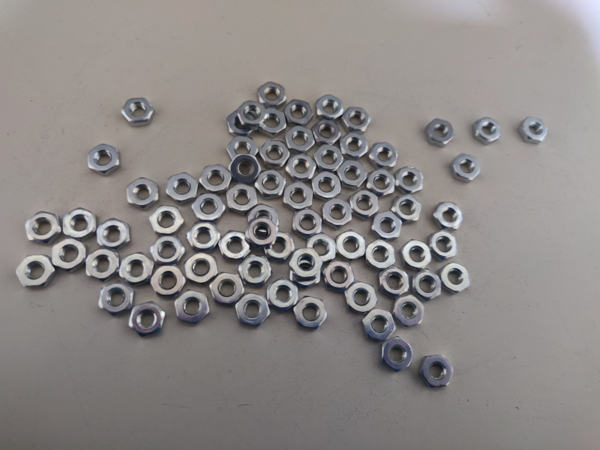nut: (15, 254, 52, 291), (130, 302, 165, 339), (26, 210, 61, 245), (175, 292, 210, 327), (209, 273, 245, 307), (379, 336, 411, 374), (419, 355, 453, 390), (237, 254, 272, 288), (52, 239, 86, 273), (294, 297, 328, 331), (235, 295, 269, 329), (117, 253, 152, 286), (125, 178, 161, 210), (393, 295, 425, 330), (62, 208, 98, 239), (363, 309, 395, 343), (410, 272, 444, 304), (98, 284, 133, 315), (185, 222, 220, 253), (268, 278, 299, 313), (86, 145, 122, 175), (287, 249, 324, 278), (86, 247, 118, 280), (185, 253, 218, 285), (151, 266, 183, 299), (440, 263, 471, 297), (150, 205, 184, 236), (96, 219, 133, 247), (345, 284, 378, 315), (150, 236, 185, 265), (423, 118, 455, 149), (167, 172, 198, 204), (226, 185, 258, 216), (368, 239, 399, 271), (392, 195, 424, 226), (192, 193, 225, 223), (394, 167, 427, 197), (122, 99, 156, 128), (244, 204, 279, 232), (518, 115, 549, 146), (199, 165, 231, 195), (307, 235, 337, 267), (334, 233, 367, 262), (289, 260, 323, 288), (471, 116, 502, 146), (283, 181, 313, 212), (400, 240, 431, 270), (218, 231, 250, 260), (324, 199, 353, 231), (263, 231, 296, 259), (379, 267, 409, 297), (450, 153, 481, 182), (372, 212, 403, 241), (348, 190, 379, 219), (338, 160, 368, 189), (433, 202, 464, 230), (294, 208, 322, 239), (342, 106, 373, 134), (315, 144, 344, 173), (366, 143, 398, 169), (255, 170, 284, 198), (324, 263, 353, 291), (341, 130, 368, 160), (429, 232, 460, 258), (228, 136, 259, 162), (283, 155, 315, 180), (368, 169, 396, 197), (257, 82, 287, 108), (284, 127, 314, 153), (313, 172, 340, 200), (230, 155, 258, 182), (228, 110, 255, 138), (259, 141, 288, 167), (284, 99, 312, 125), (238, 101, 266, 127), (246, 218, 274, 243), (261, 108, 286, 135), (317, 95, 343, 119), (315, 119, 339, 144)
